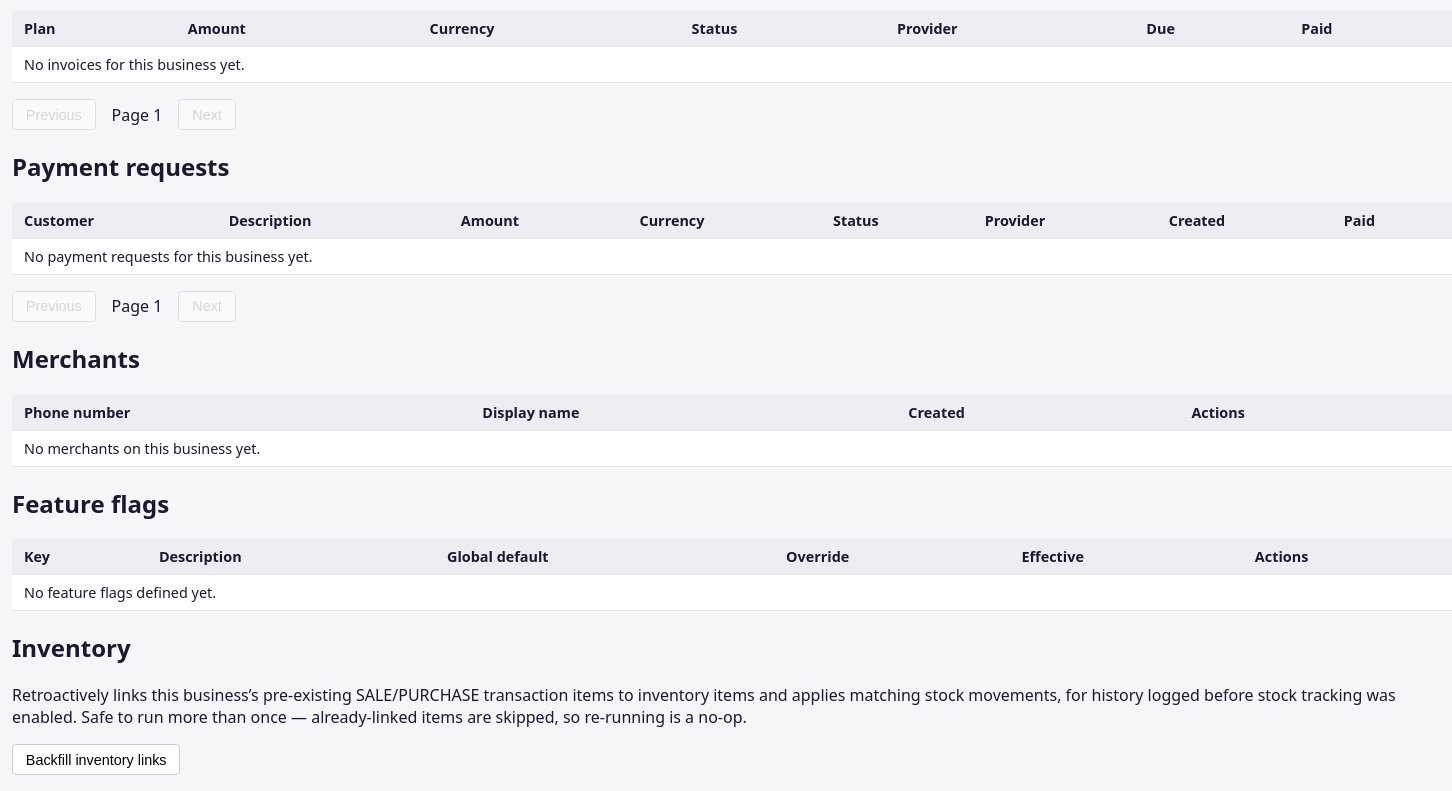
Test: BusinessDetailPage — inventory backfill section (Phase 17 gap closure) › reports a zero-result run distinctly from an error
This screenshot has width=1452, height=791.
(page scrolled)
Click the button "Backfill inventory links" at (96, 760), box [12, 744, 180, 775]
(page scrolled)
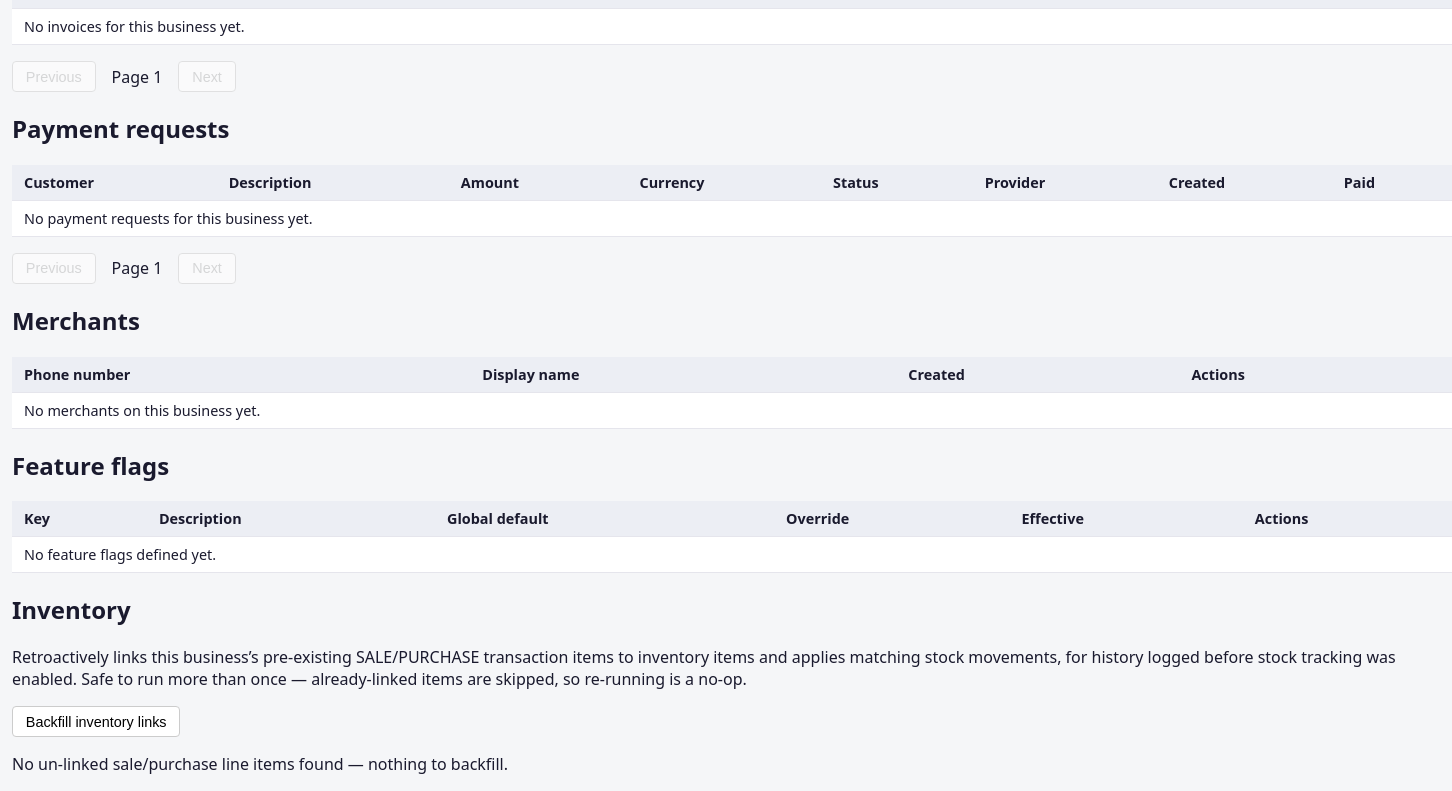
Check: the text "No un-linked sale/purchase line items found — nothing to backfill." is shown, box [12, 753, 508, 775]
